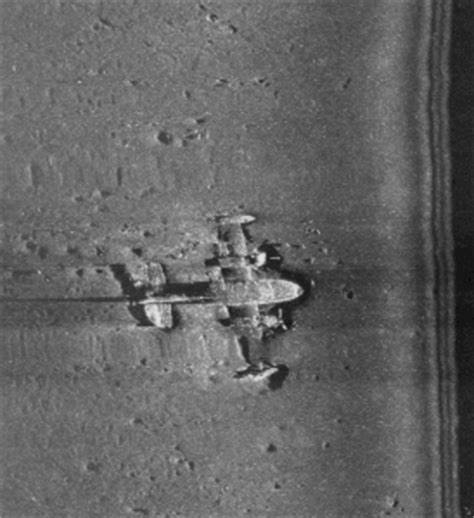plane: (136, 212, 302, 383)
